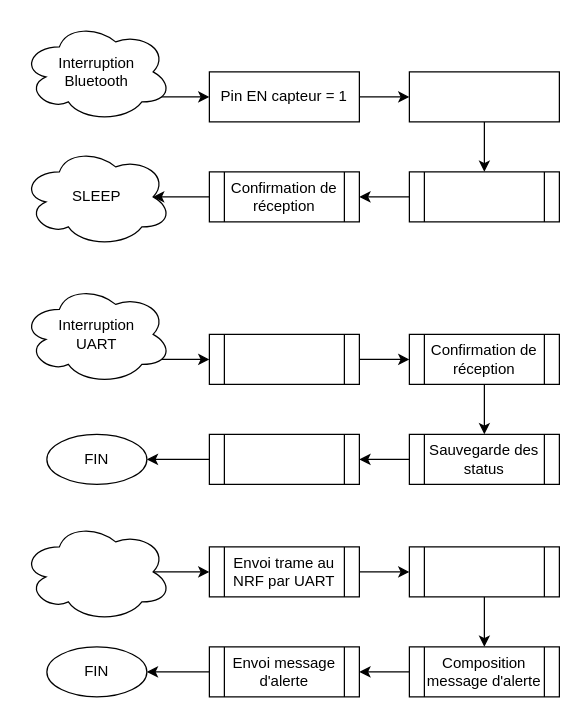
The diagram is 581 pixels wide and 719 high, and some of its shapes have lost their labels. Each missing label, with the box of its shape:
Demander statut aux émetteurs: (208, 333, 359, 384)
Envoi d'alertes si nécessaire: (208, 433, 359, 484)
Envoi retour Bluetooth: (408, 171, 559, 222)
Interruption RTCC: (21, 521, 172, 622)
Lecture pin capteur: (408, 71, 559, 122)
Traitement des informations: (408, 546, 559, 597)
